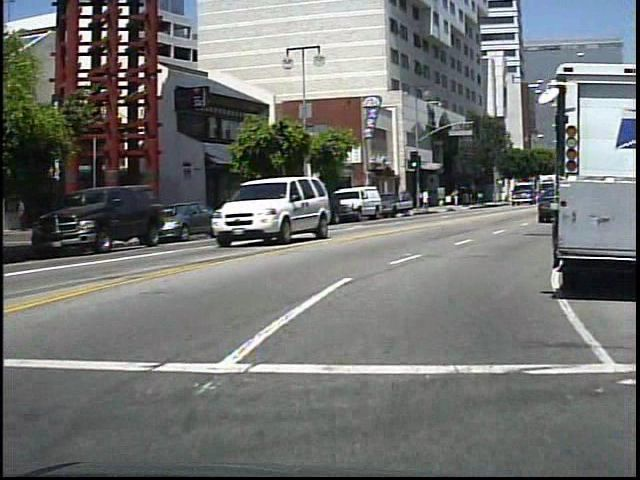person: (420, 187, 434, 215)
